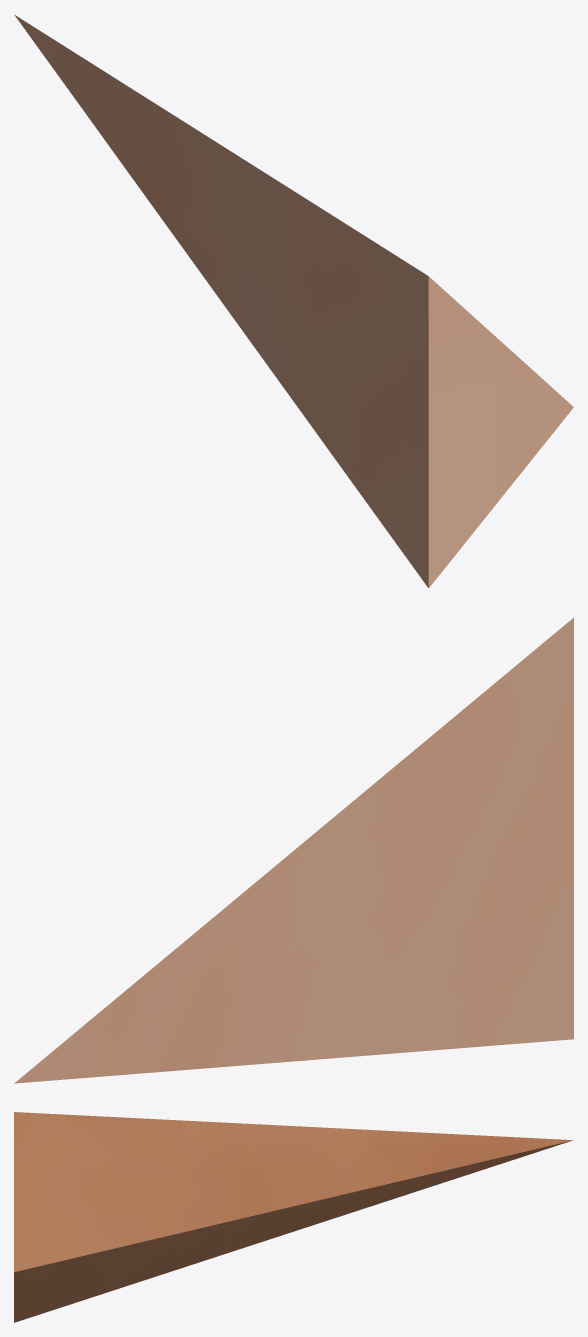
The model's file is wall2_arcade_s00.fbx.
3 renders of one model, top to bottom at view 1: azimuth 30°, elevation 25°; view 2: azimuth 150°, elevation 25°; view 3: azimuth 270°, elevation 25°, orthographic. The views are drawn at different scales.
Visible parts, largest first — view 1: wall2_arcade_s00; view 2: wall2_arcade_s00; view 3: wall2_arcade_s00.
Boxes of the visible parts, left/top/right/bottom form: wall2_arcade_s00: left=14, top=14, right=573, bottom=588; wall2_arcade_s00: left=14, top=617, right=573, bottom=1083; wall2_arcade_s00: left=14, top=1112, right=573, bottom=1322.
Bounding box in the file's own units: 0.159 × 0.3267 × 0.7859.
